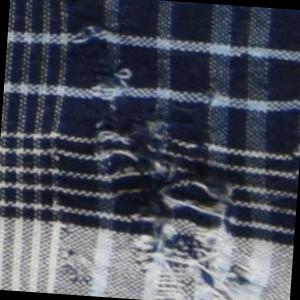Damage: (30, 1, 288, 300)
